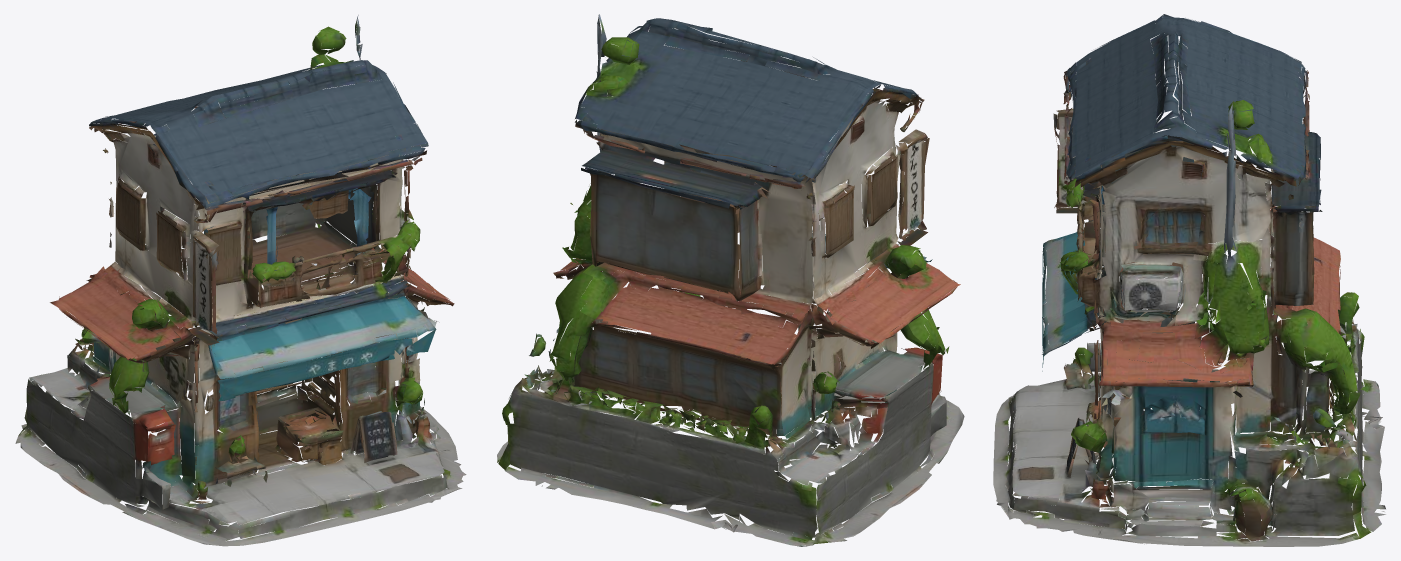
Rendered from building17.glb.
The picture shows the model from 3 angles, left to right: view 1: azimuth 30°, elevation 25°; view 2: azimuth 150°, elevation 25°; view 3: azimuth 270°, elevation 25°; orthographic projection. The views are drawn at different scales.
Visible parts, largest first — view 1: tripo_node_1818c3a9; view 2: tripo_node_1818c3a9; view 3: tripo_node_1818c3a9.
Part boxes in pixels (x1,y1,x2,y2): tripo_node_1818c3a9: (15, 15, 466, 546); tripo_node_1818c3a9: (497, 14, 964, 546); tripo_node_1818c3a9: (993, 14, 1385, 546).
Bounding box in the file's own units: 90.45 × 99.99 × 84.74.
1 material, 1 textured.
